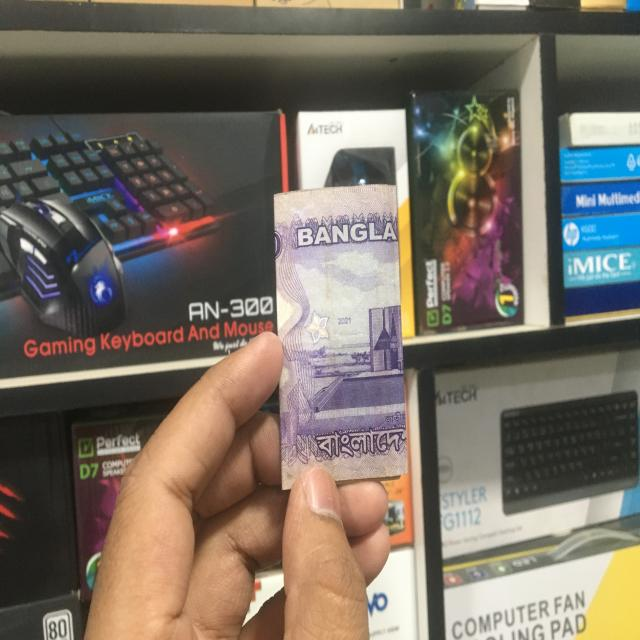Taka: (274, 188, 409, 482)
